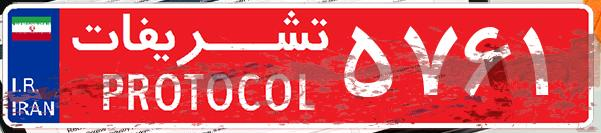1: (520, 20, 580, 115)
5: (340, 20, 400, 115)
6: (460, 20, 520, 115)
7: (400, 20, 460, 115)
تشریفات: (60, 8, 340, 125)
